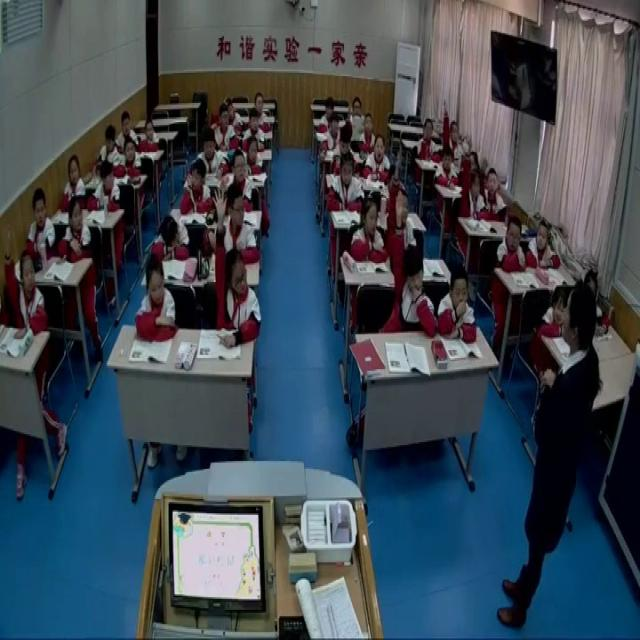distracted: (179, 157, 214, 216)
focused: (440, 267, 481, 346), (138, 254, 176, 336), (218, 185, 259, 258), (351, 196, 389, 267), (29, 186, 59, 265), (537, 278, 571, 344), (329, 151, 366, 211), (60, 198, 94, 260), (496, 220, 529, 278), (526, 217, 559, 275), (152, 214, 190, 263), (223, 151, 256, 207), (365, 132, 395, 184), (61, 158, 88, 214), (484, 160, 507, 223), (432, 142, 458, 194), (196, 130, 223, 180), (329, 126, 355, 177), (242, 107, 270, 152), (94, 160, 118, 212), (95, 122, 120, 170), (115, 138, 144, 179), (240, 132, 265, 174), (320, 115, 343, 160), (416, 115, 438, 161), (215, 106, 238, 149), (116, 112, 138, 156), (357, 107, 378, 153), (138, 116, 161, 153), (224, 95, 244, 135), (249, 94, 270, 132), (347, 96, 365, 131), (318, 95, 334, 131)
raising_hand: (214, 184, 264, 350), (387, 180, 435, 331), (4, 224, 49, 334), (386, 140, 417, 255), (460, 140, 488, 220), (440, 96, 463, 167)
